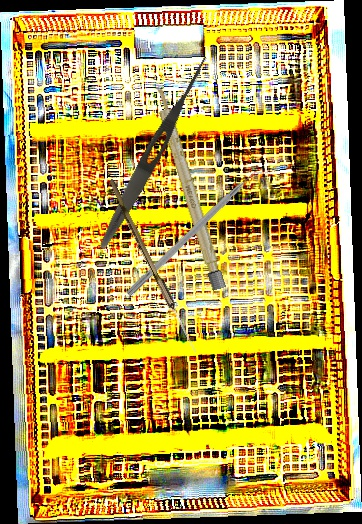Chopper: (125, 161, 273, 305)
Dressing Forceps: (94, 49, 214, 253)
Scalpel Handle: (150, 85, 227, 291)
Surgical Spoon: (104, 178, 201, 355)
